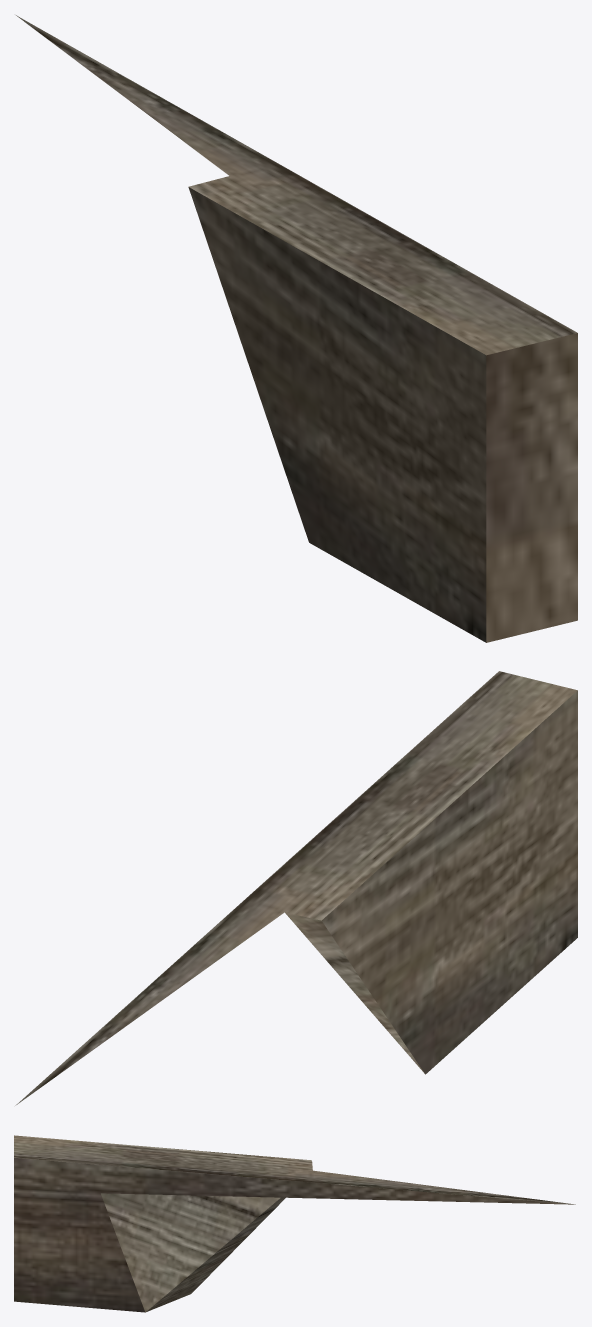
Rendered from trenchframe_piece01.glb.
3 views of the same model, one above another, from view 1: azimuth 30°, elevation 25°; view 2: azimuth 150°, elevation 25°; view 3: azimuth 270°, elevation 25° (orthographic). The views are drawn at different scales.
Bounding box in the file's own units: 2 × 6.62 × 21.32.
Materials: 1 (1 with a texture image).
